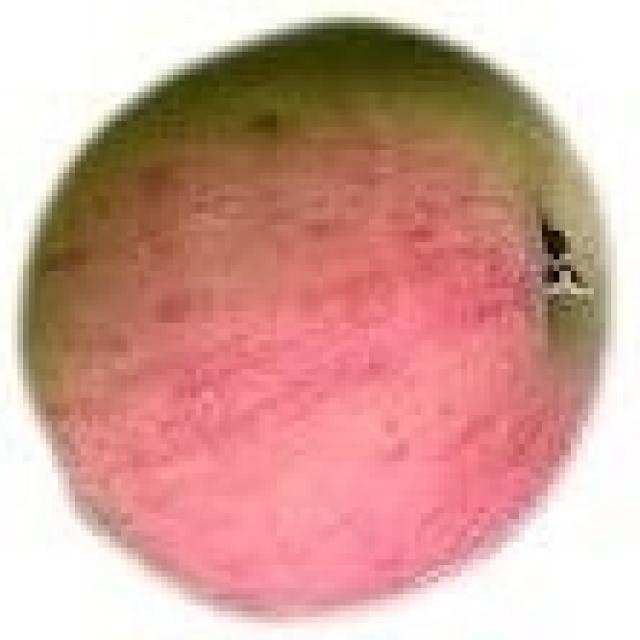apple: (23, 19, 605, 610)
